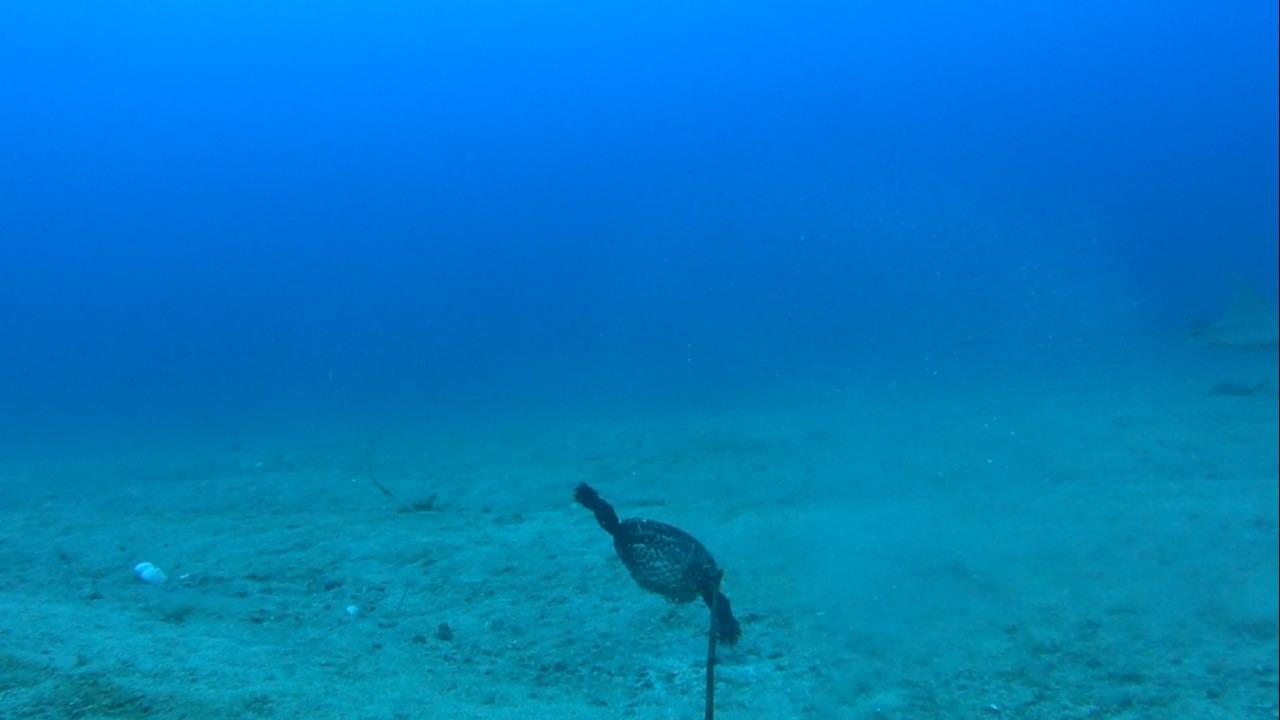myliobatis: (960, 263, 1279, 365)
